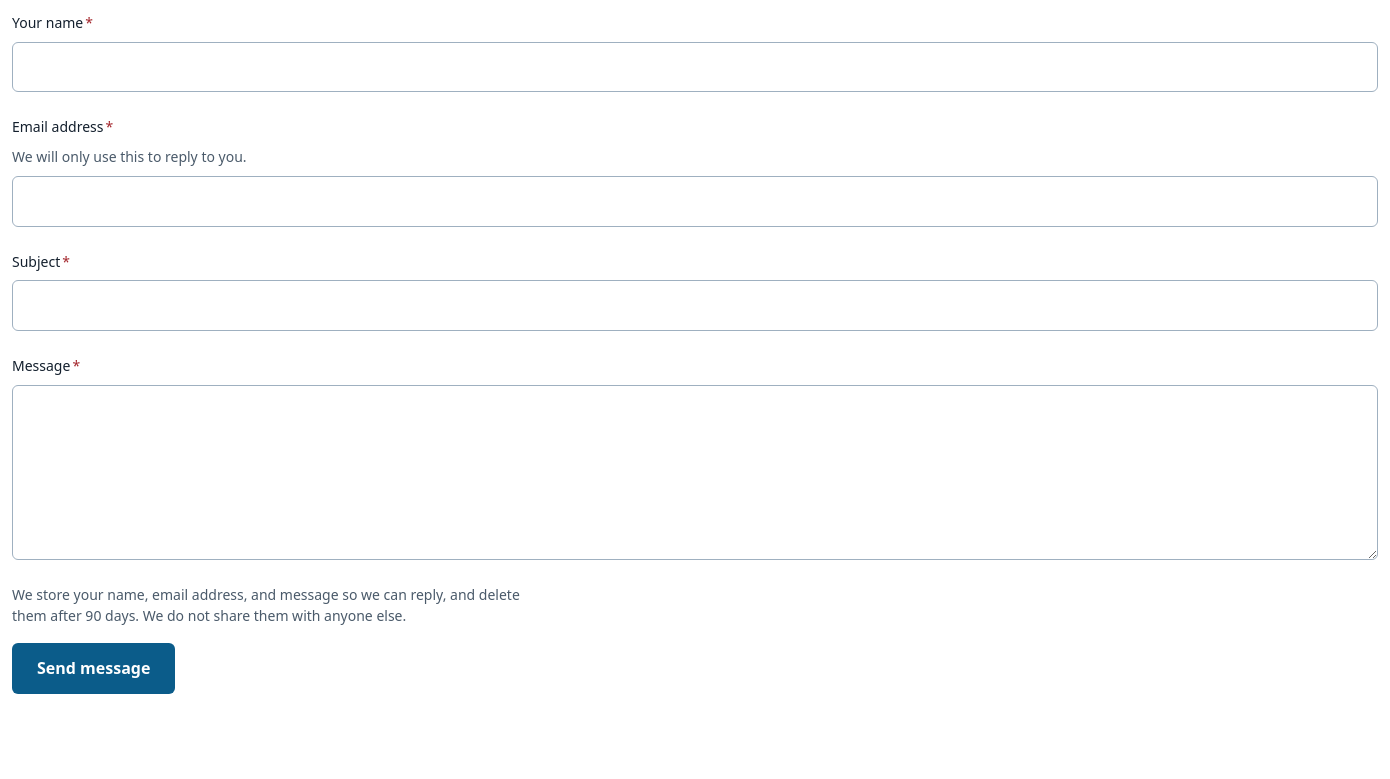
Test case: validation › names the email field for a malformed address
Type "Amina Farouk" into the field labelled "Your name*".
click(695, 67); type("Amina Farouk")  # box top-left (12, 42), bottom-right (1378, 92)
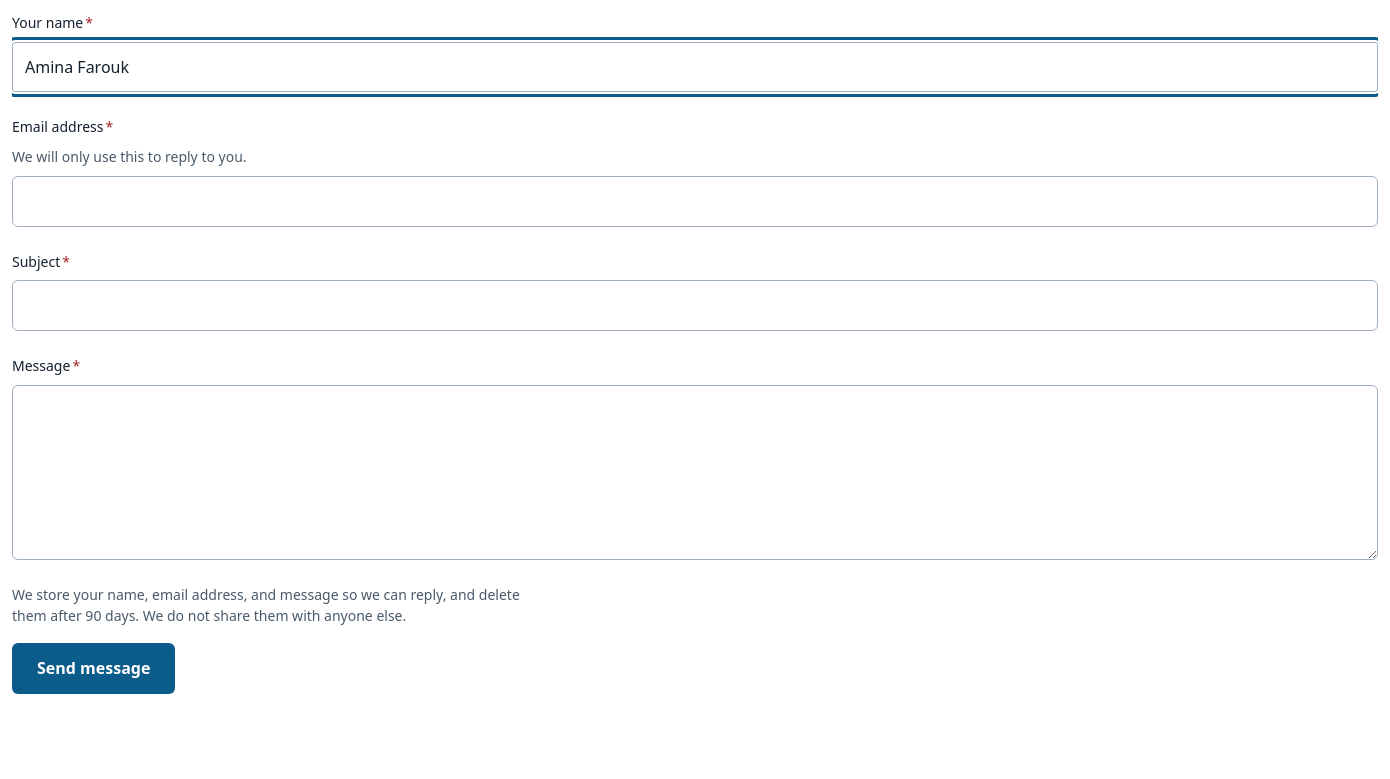
Type "amina@example.com" into the field labelled "Email address*".
click(695, 201); type("amina@example.com")  # box top-left (12, 176), bottom-right (1378, 227)
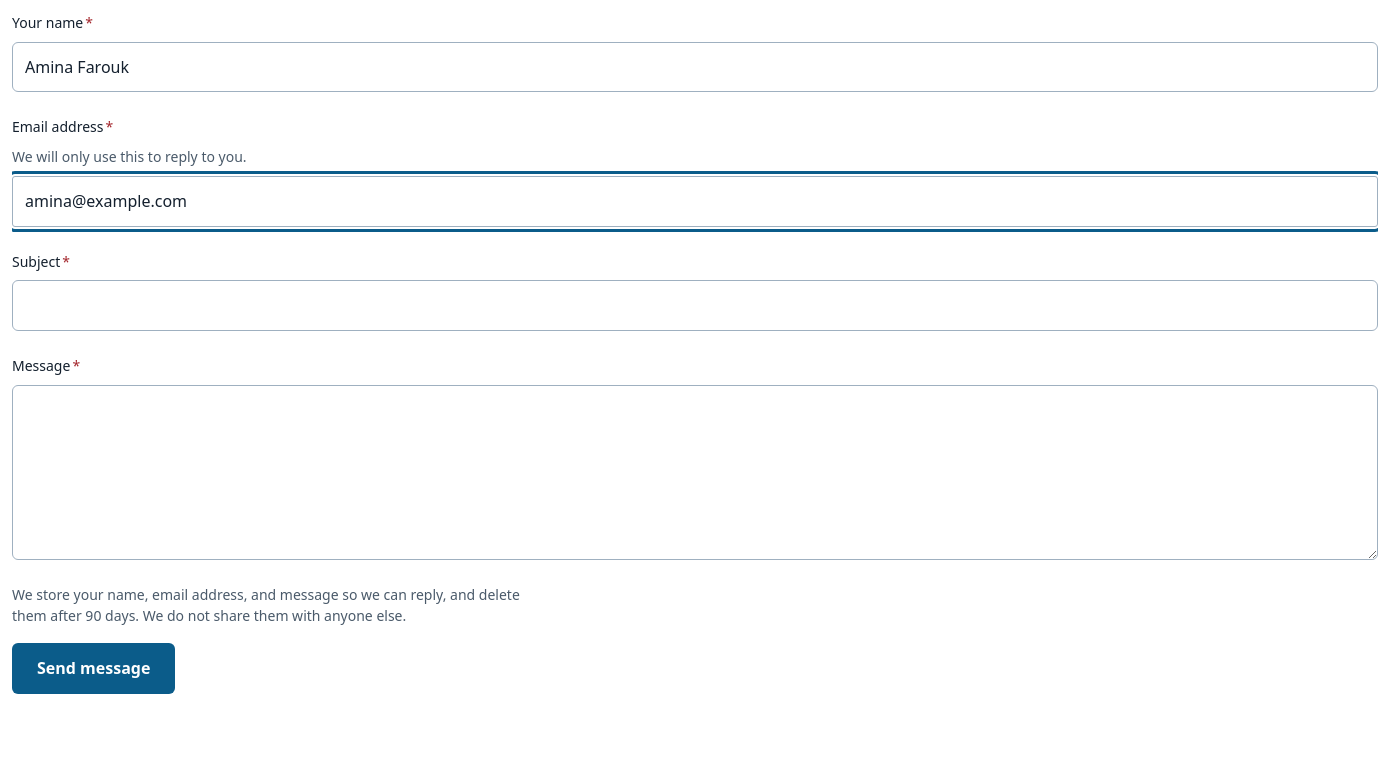
Type "Approvals" into the field labelled "Subject*".
click(695, 306); type("Approvals")  # box top-left (12, 280), bottom-right (1378, 331)
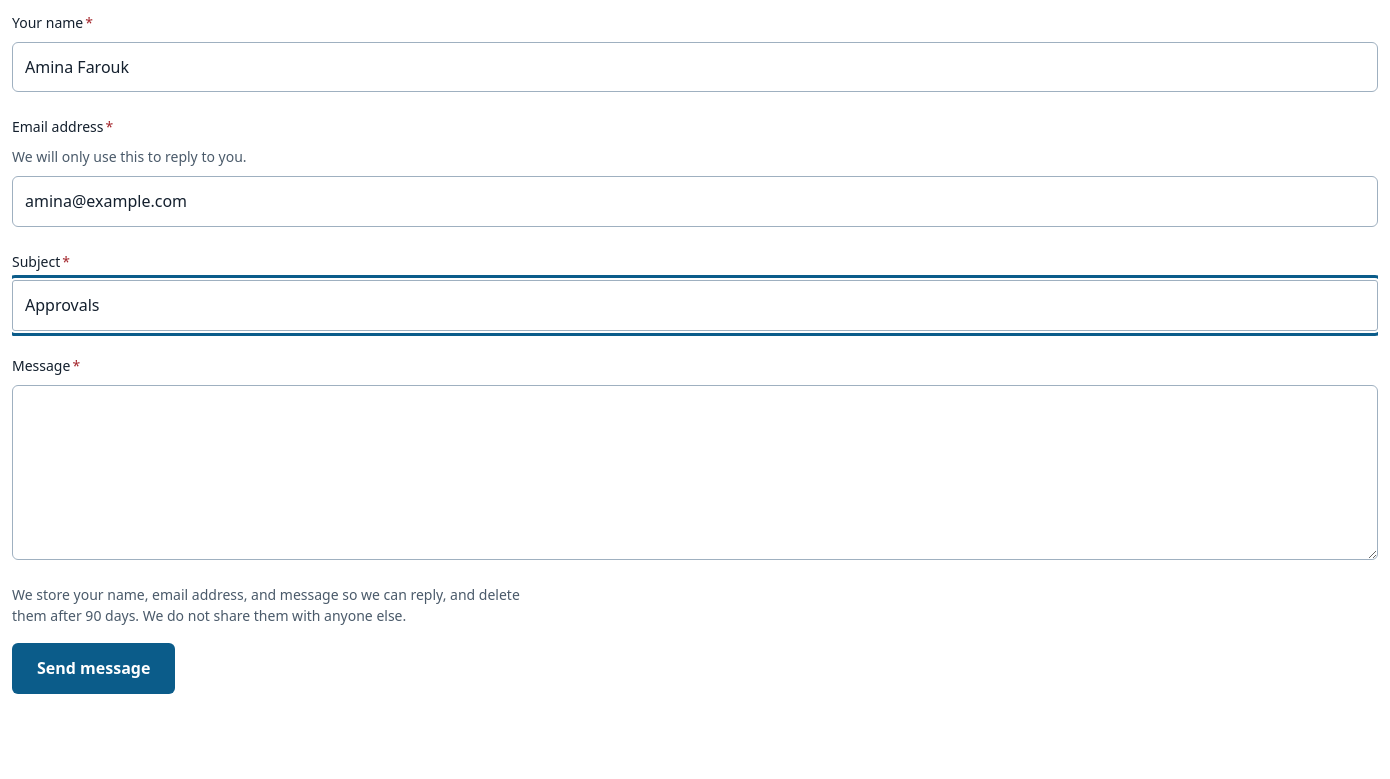
Type "We have twelve approval steps and no record of who signed what." into the text box labelled "Message*".
click(695, 472); type("We have twelve approval steps and no record of who signed what.")  # box top-left (12, 385), bottom-right (1378, 560)
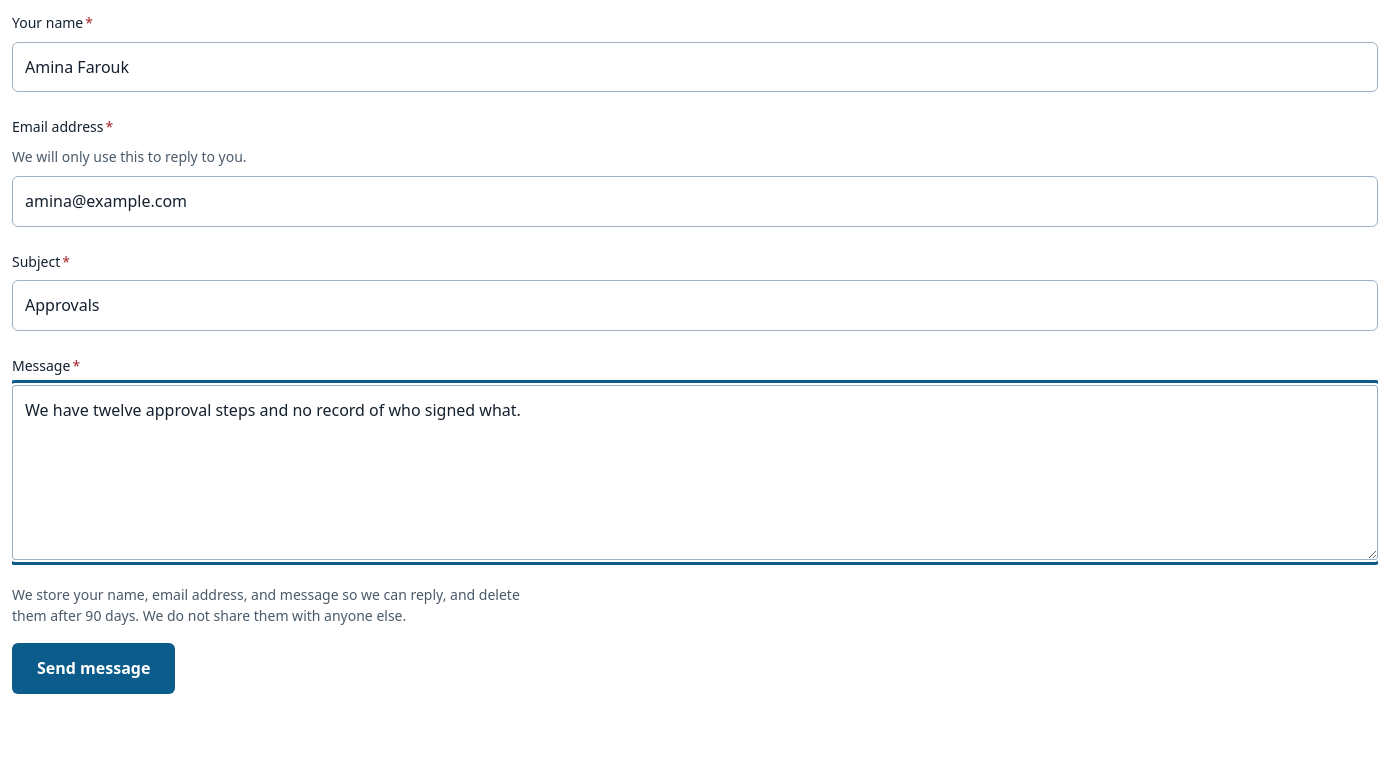
Replace the text in the field labelled "Email address*" with "not-an-email" at point(695, 201), box top-left (12, 176), bottom-right (1378, 227)
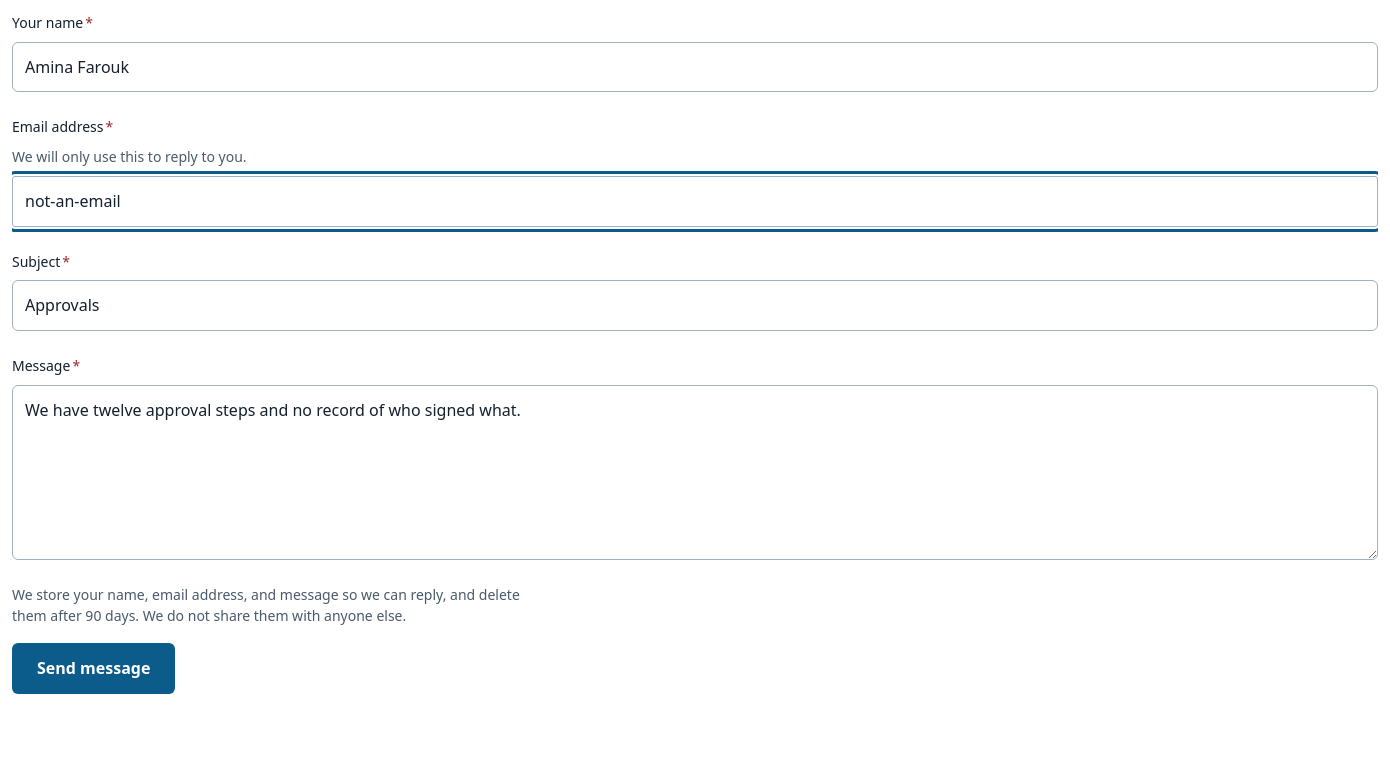
Click the button "Send message".
click(94, 668)  # box top-left (12, 643), bottom-right (175, 694)
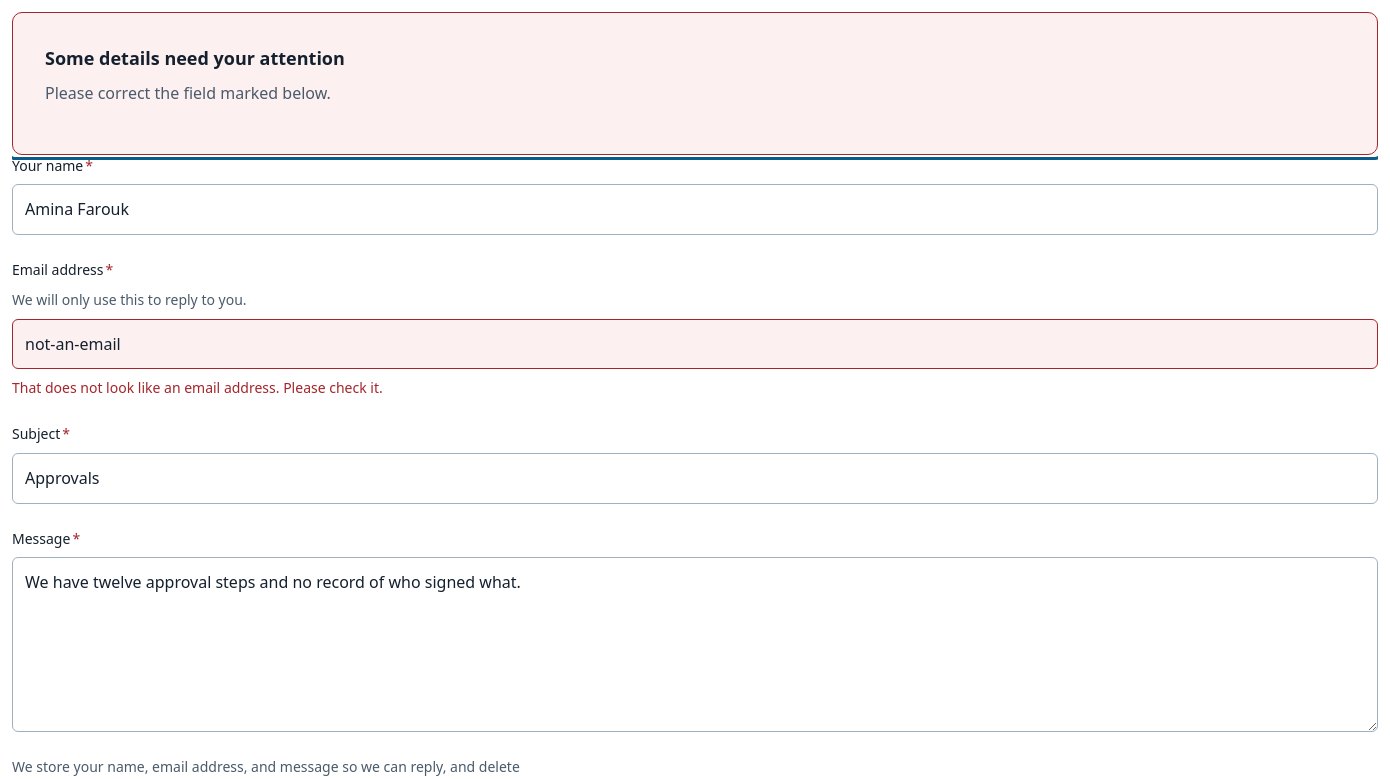
Expected: the text "That does not look like an email address. Please check it." is shown, top-left (12, 378), bottom-right (383, 397)
